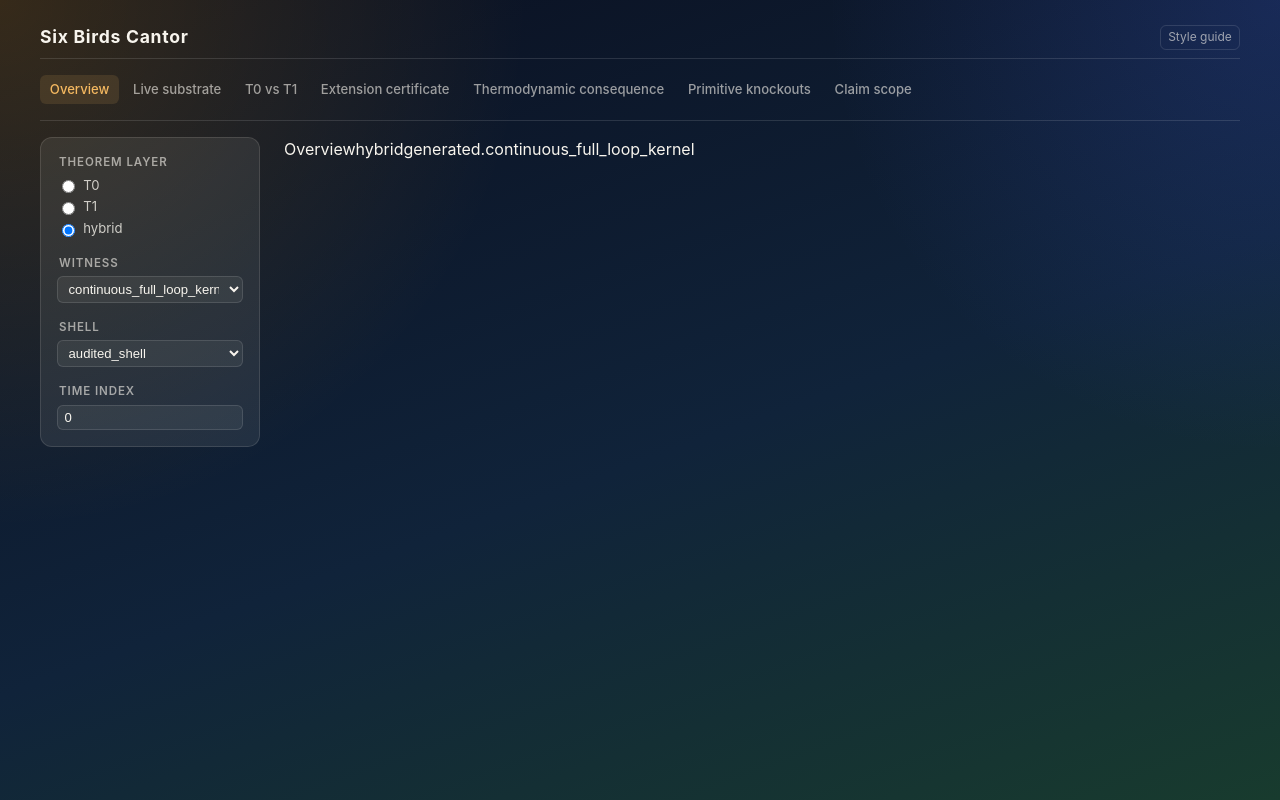
Shared state across navigation › changing theorem layer on one page is reflected on another
Expected: the text with test id "layer" reads "hybrid", [356,139,404,159]
Change to T0
Step 1. Click the radio button labelled "T0" → click(68, 187), box [62,180,75,193]
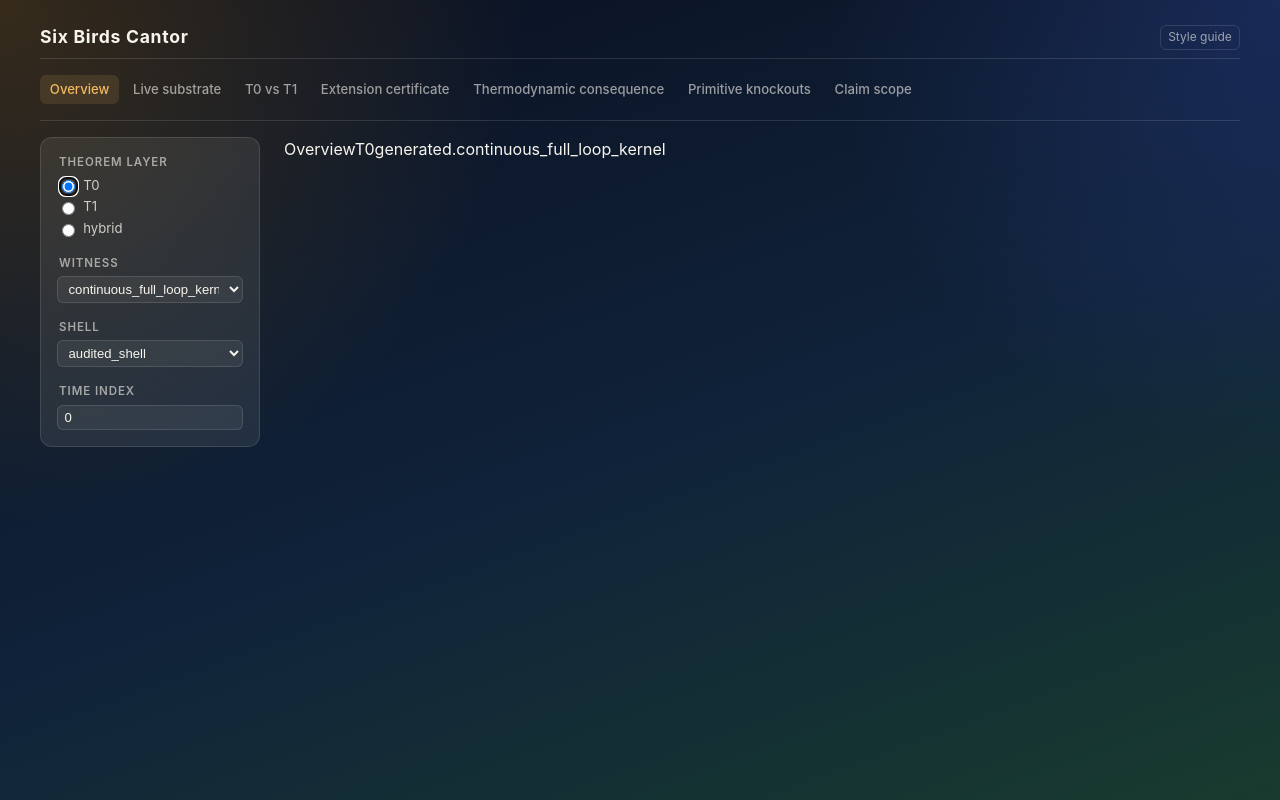
Now the text with test id "layer" reads "T0", box [355,139,375,159]
Navigate away and verify state persists
Step 2. Click the link "Live substrate" → click(177, 89), box [133,81,221,97]
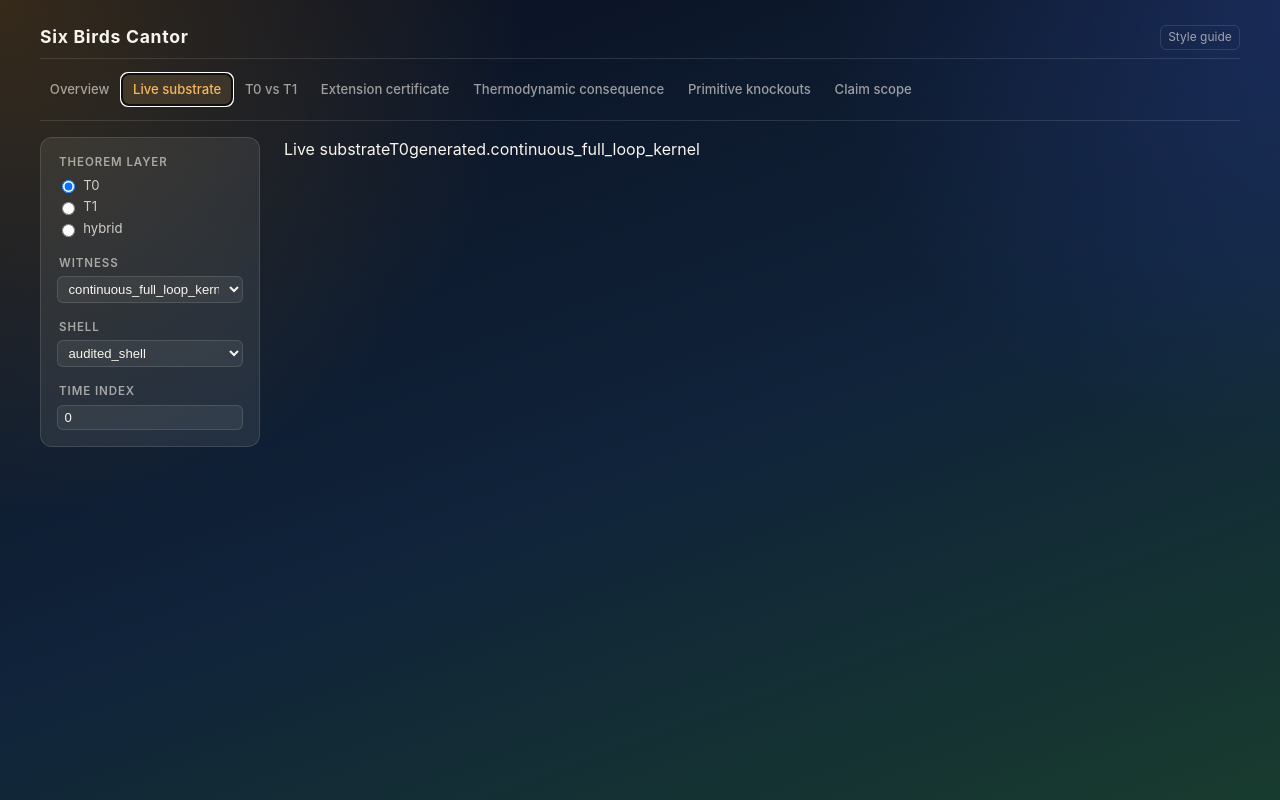
Now the text with test id "layer" reads "T0", box [389,139,409,159]
Now the text with test id "page-label" reads "Live substrate", box [284,139,389,159]
